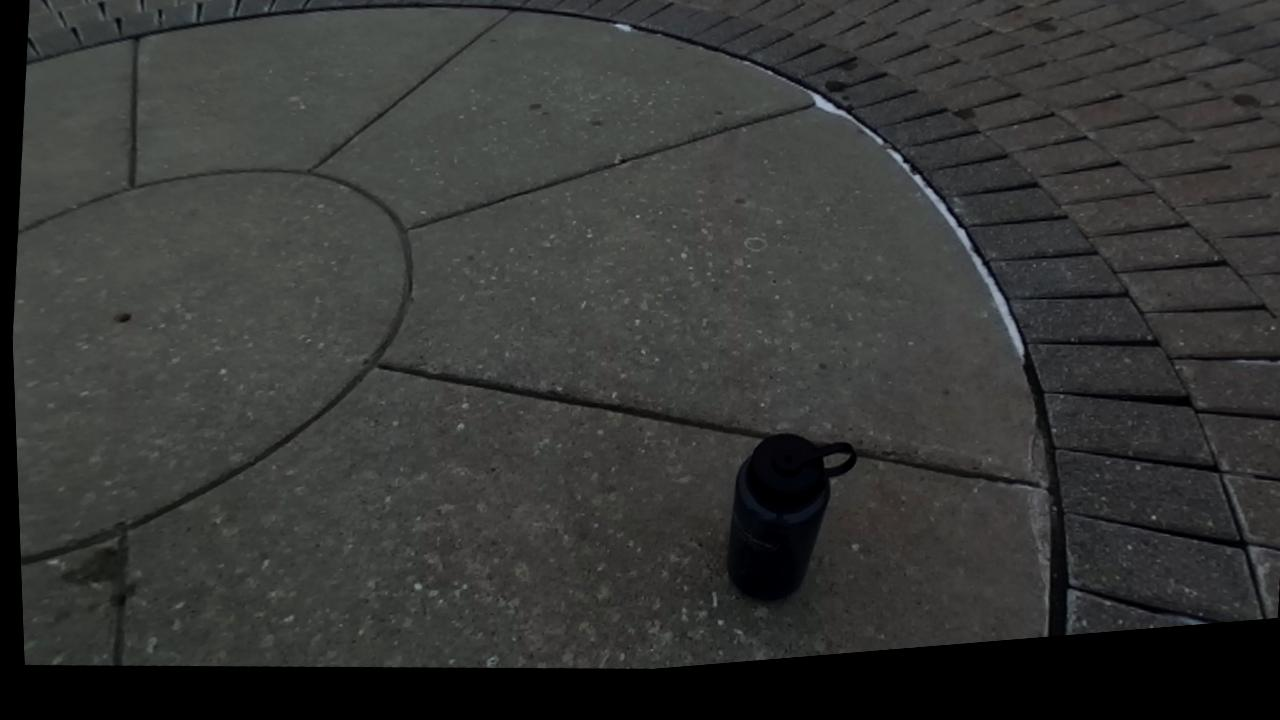bottle: (726, 434, 855, 600)
